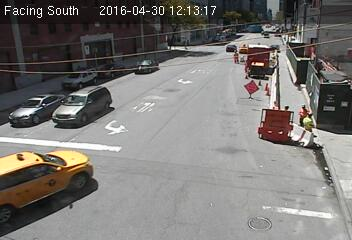neg: (168, 63, 189, 92), (220, 91, 240, 118), (129, 78, 146, 101), (86, 97, 103, 120), (273, 14, 288, 35)
pos: (293, 102, 312, 127), (299, 110, 317, 134), (230, 49, 240, 63)
